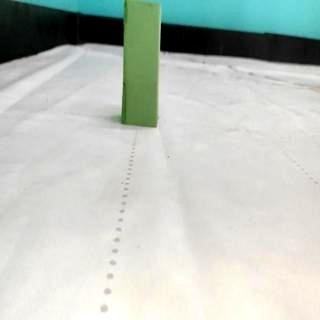greenbox: (122, 0, 162, 125)
